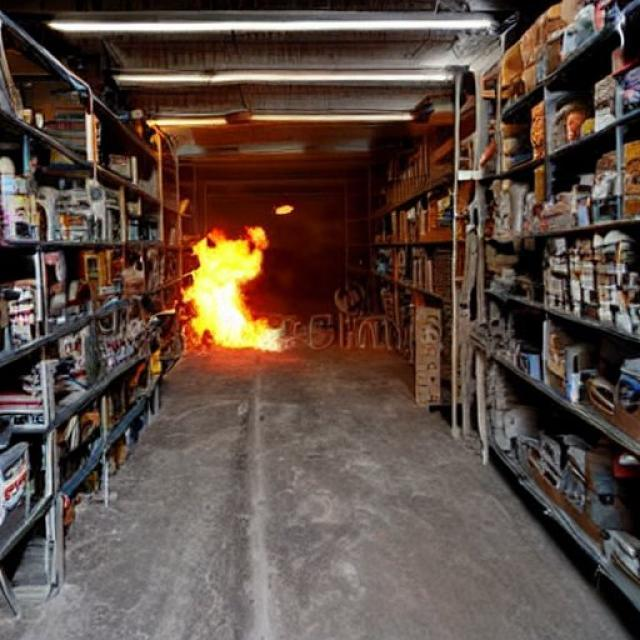Fire: (182, 222, 290, 356)
